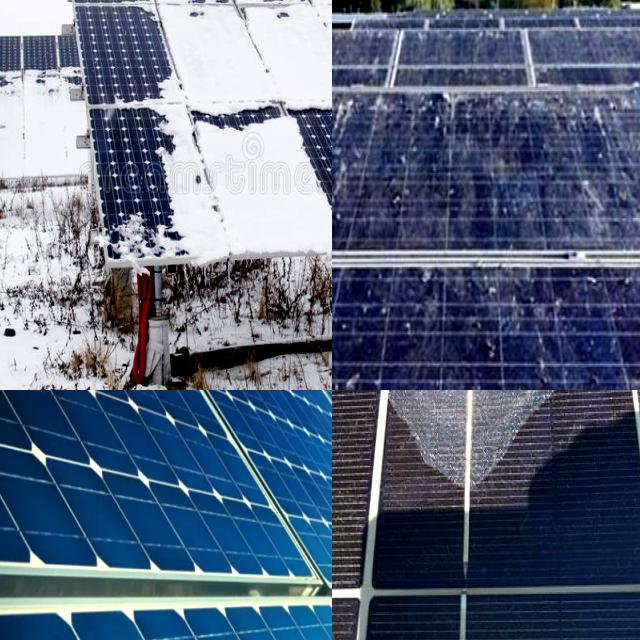bird: (332, 319, 345, 387), (332, 313, 351, 358), (332, 369, 368, 390), (500, 374, 542, 390), (478, 336, 503, 362), (332, 322, 366, 340)
crack: (0, 390, 332, 588)
panel: (129, 0, 276, 120), (110, 131, 210, 270), (194, 94, 298, 171), (288, 130, 332, 272), (282, 0, 332, 115), (0, 60, 100, 116), (0, 75, 25, 165), (0, 123, 26, 182)
shadow: (388, 390, 620, 550)
